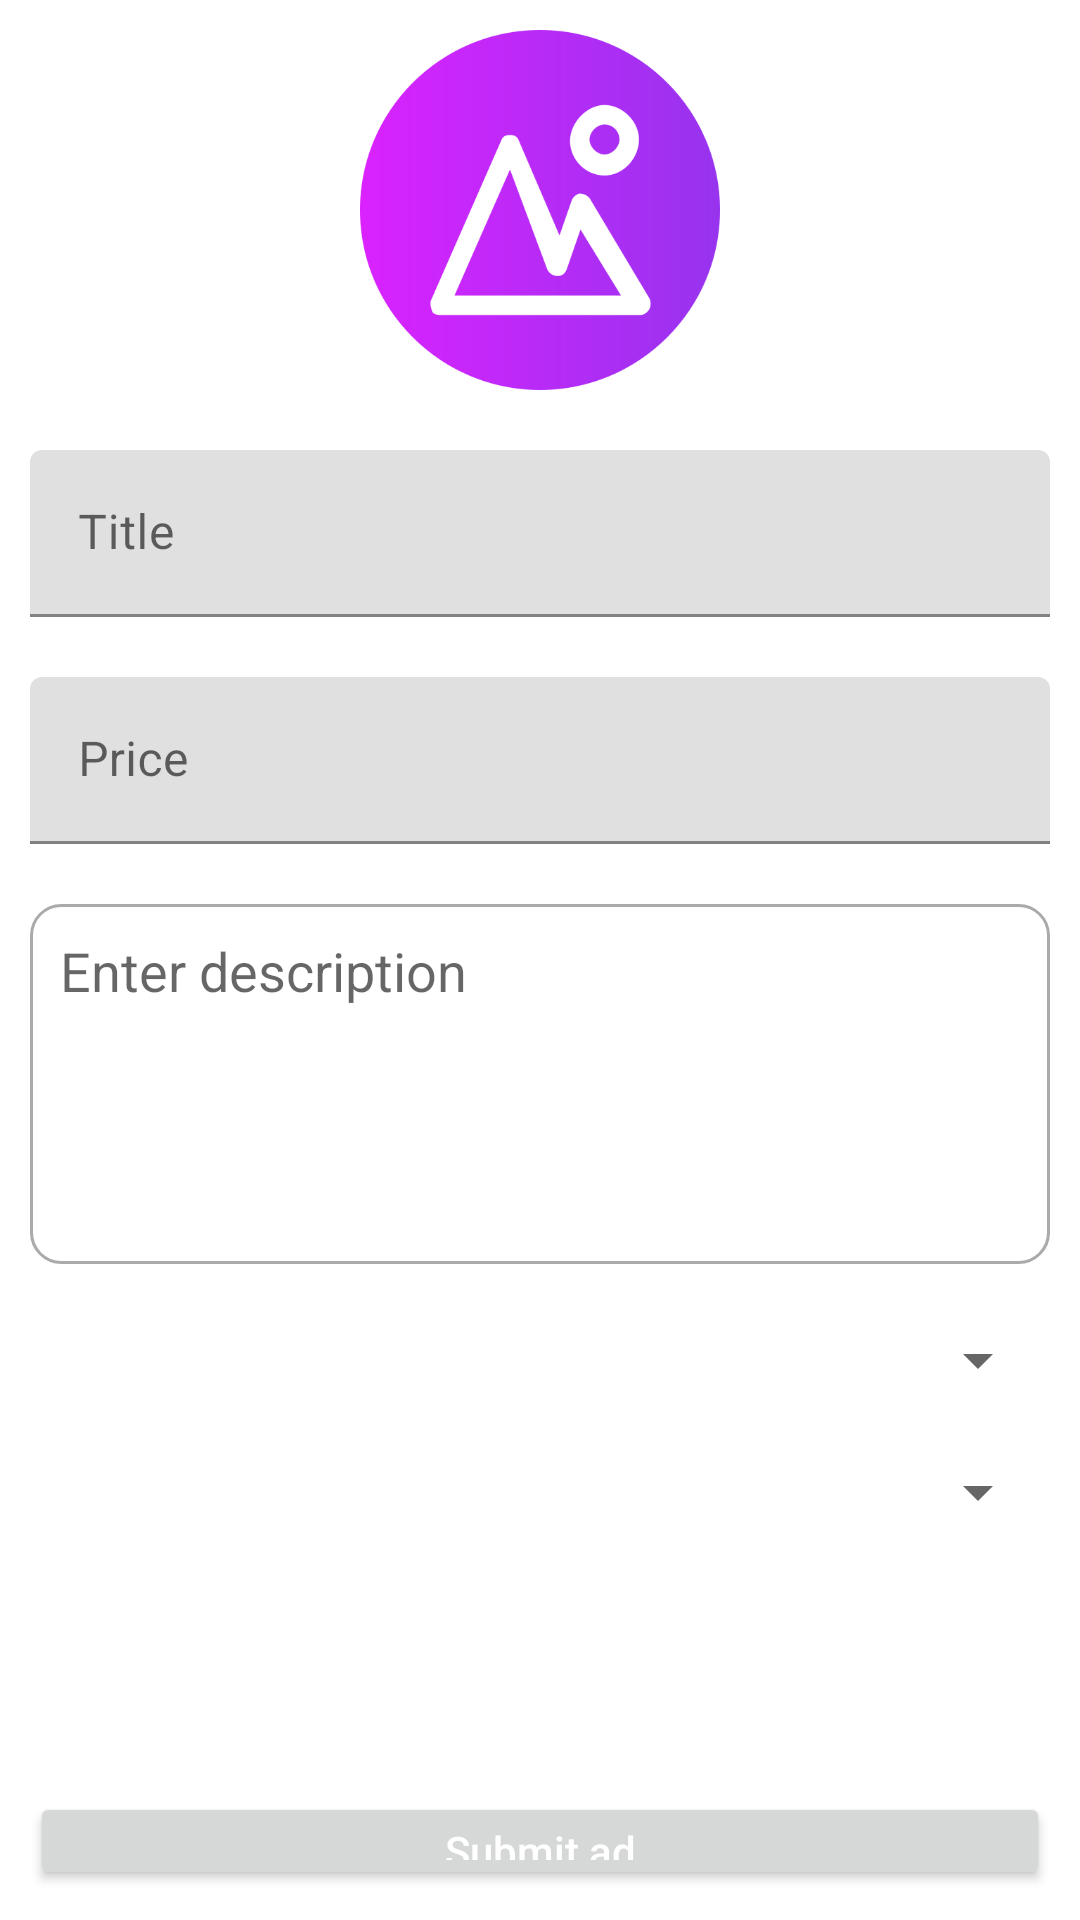

Named icons in this screenshot (1080x1920) and their centers, [x,y]:
gallery: [540,210]
